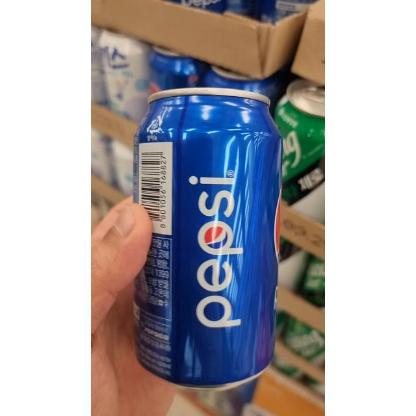Can: (132, 86, 282, 392)
